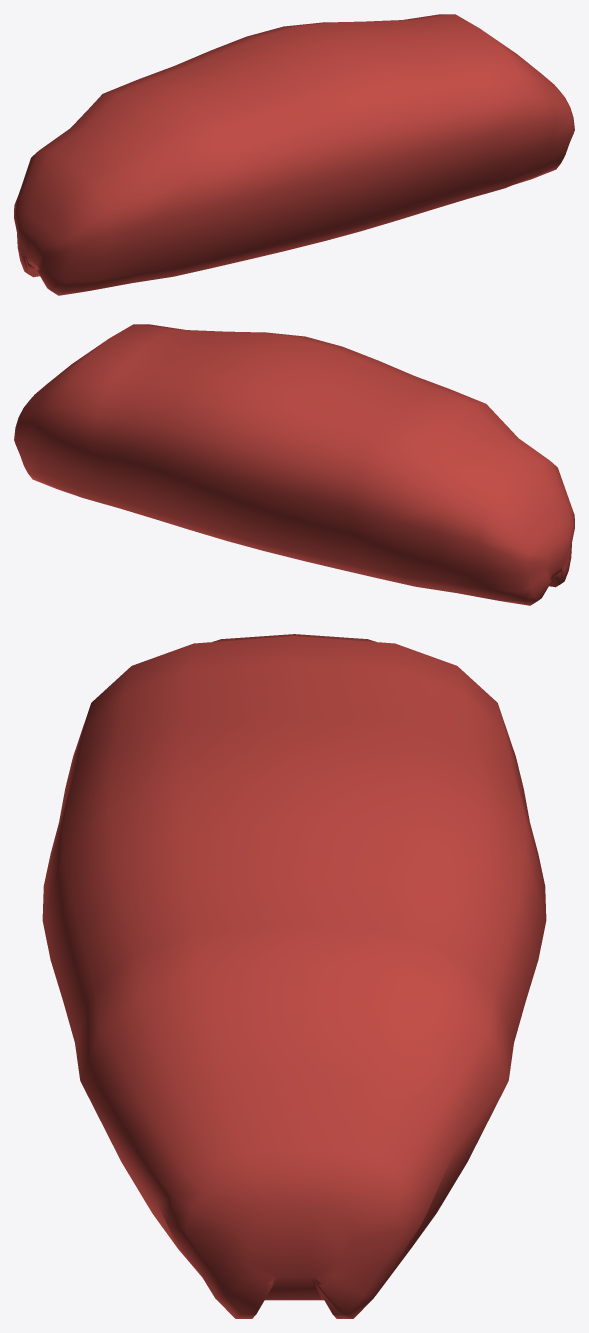
File: touring_lod1.glb
The picture shows the model from 3 angles, top to bottom: view 1: azimuth 30°, elevation 25°; view 2: azimuth 150°, elevation 25°; view 3: azimuth 270°, elevation 25°; orthographic projection. The views are drawn at different scales.
Visible parts, largest first — view 1: touring_lod1; view 2: touring_lod1; view 3: touring_lod1.
Part boxes in pixels (left/top/right/bottom): touring_lod1: left=14, top=14, right=574, bottom=295; touring_lod1: left=14, top=324, right=574, bottom=605; touring_lod1: left=42, top=634, right=546, bottom=1318.
Bounding box in the file's own units: 1 × 0.3219 × 0.4173.
